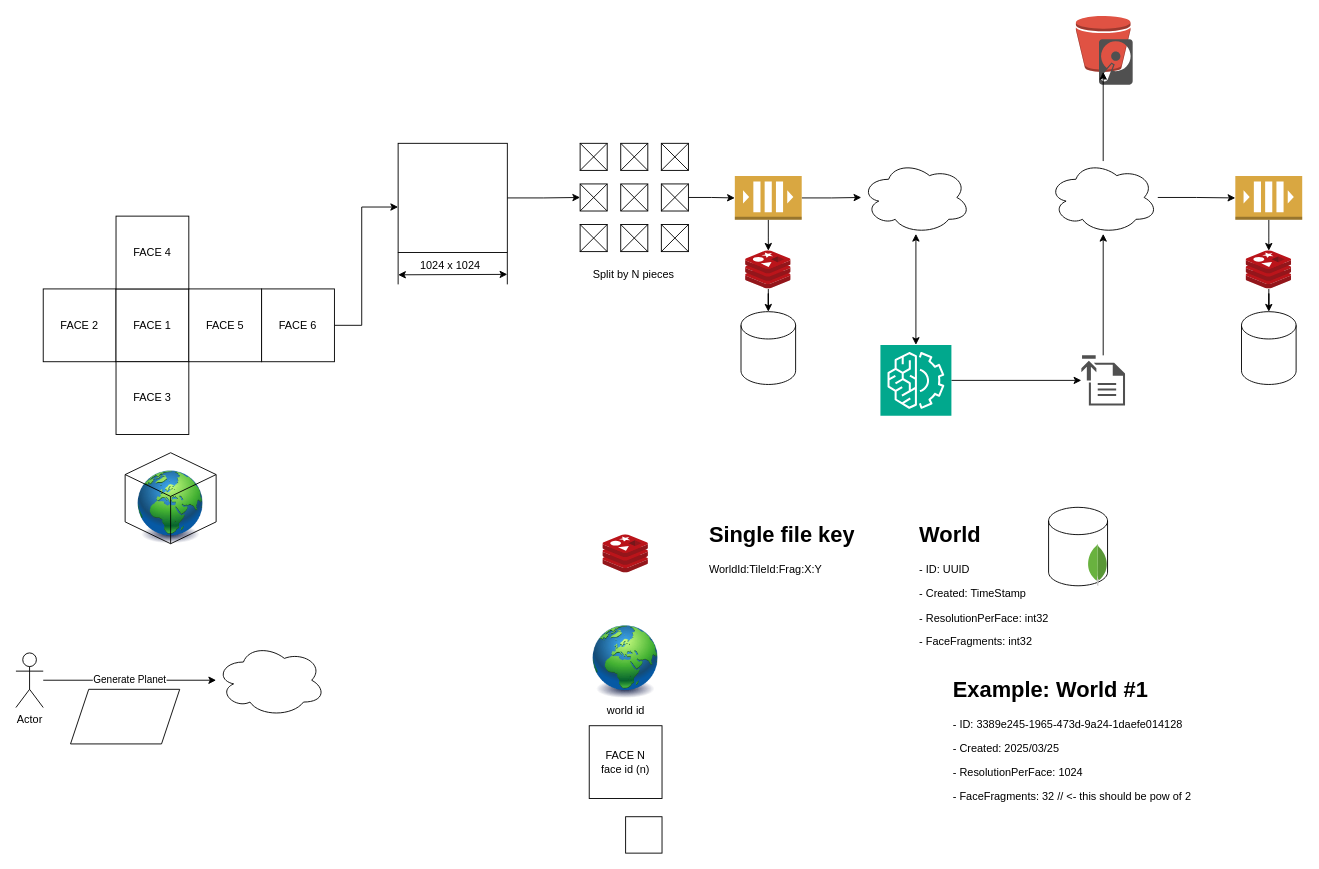
The diagram is 1319 pixels wide and 869 high, and some of its shapes have lost their labels. The centre of each missing label's shape, as x and y in pixels:
Galaxy: (270,680)
Galaxy Queue: (915,197)
Galaxy Storage: (1103,197)
Planet generation parameters: (125,716)
TILE tile XY: (643,834)
